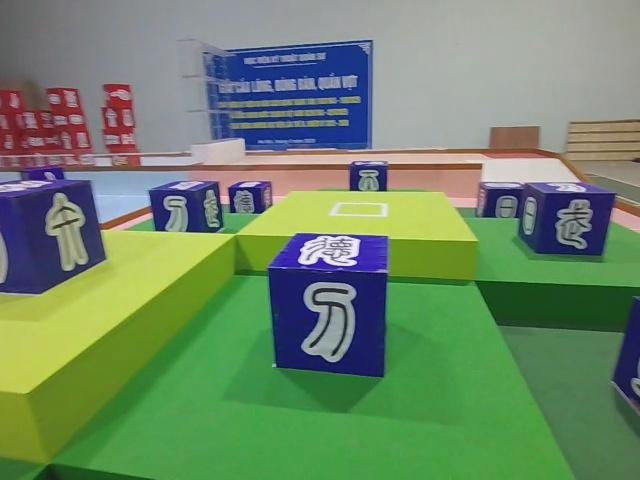R2 Fake Blue: (270, 234, 390, 382), (2, 179, 109, 297), (518, 182, 617, 258), (151, 181, 226, 235), (475, 183, 528, 221), (226, 182, 271, 216), (348, 160, 389, 192)
